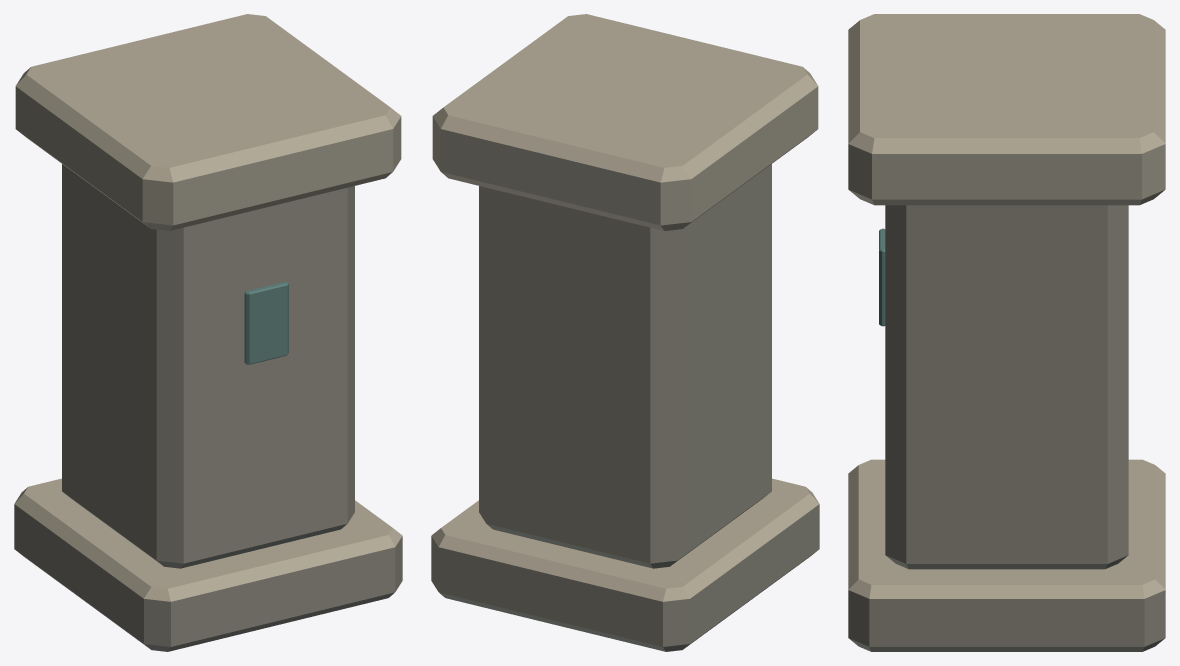
The model's file is wall-end-cap.glb.
3 renders of one model, left to right at view 1: azimuth 30°, elevation 25°; view 2: azimuth 150°, elevation 25°; view 3: azimuth 270°, elevation 25°, orthographic. The views are drawn at different scales.
Parts seen in each view (by area): view 1: wall-end-cap; view 2: wall-end-cap; view 3: wall-end-cap.
Part boxes in pixels (x1,y1,x2,y2): wall-end-cap: [14, 14, 402, 651]; wall-end-cap: [431, 14, 819, 651]; wall-end-cap: [848, 14, 1165, 651].
Size of the model in its own units: 0.6 by 1.07 by 0.6.
